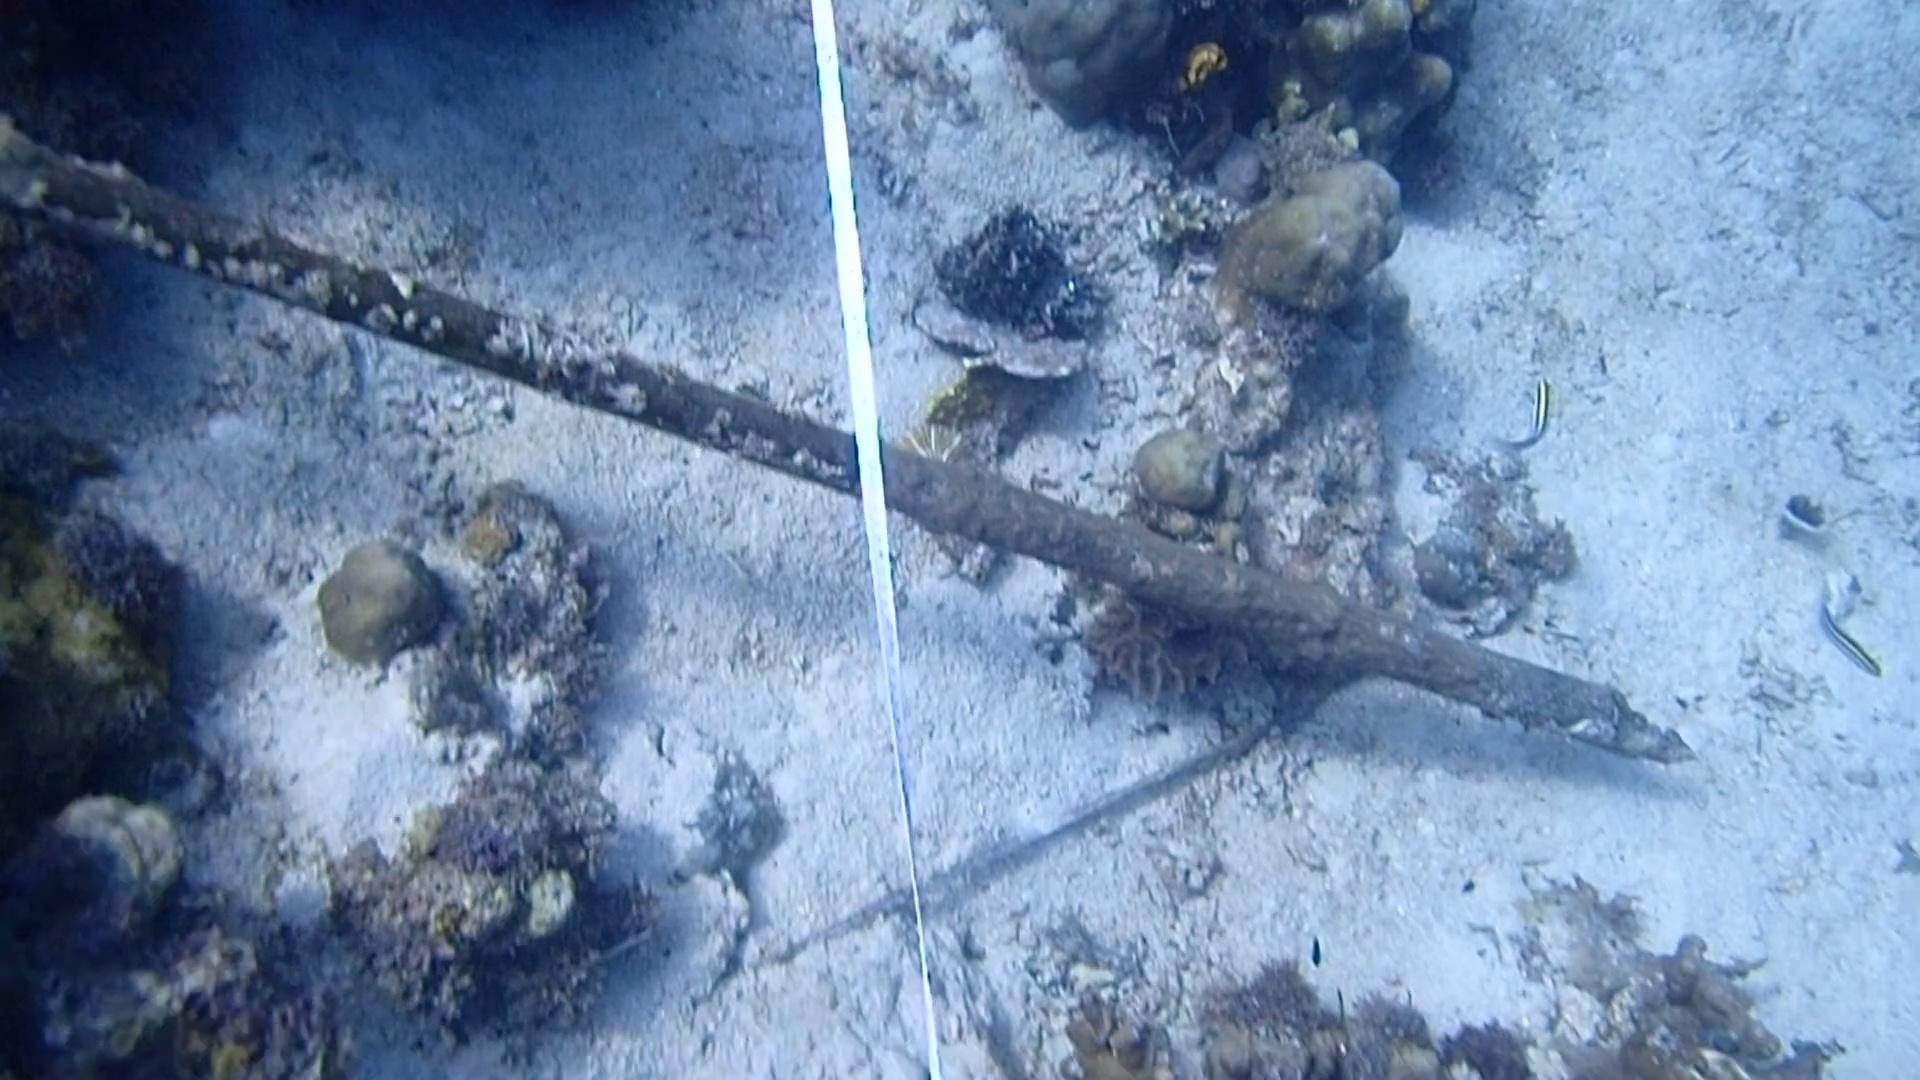Striped Fish: (1813, 593, 1887, 684), (1501, 373, 1576, 450)
